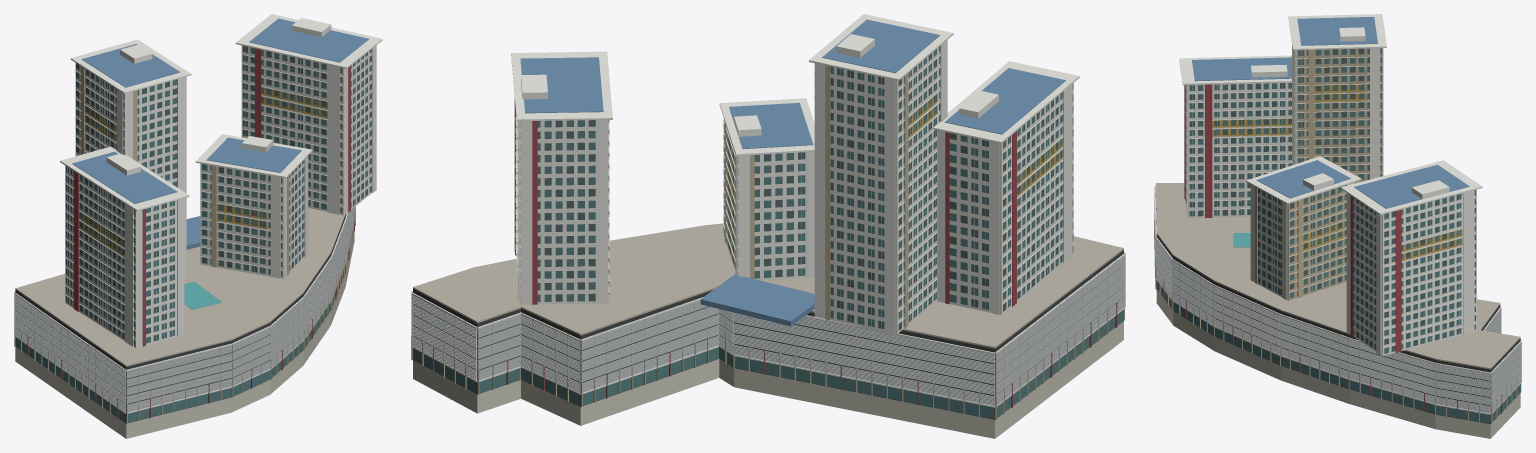
The model's file is residensi_lod0.glb.
3 views of the same model, side by side, from view 1: azimuth 30°, elevation 25°; view 2: azimuth 150°, elevation 25°; view 3: azimuth 270°, elevation 25° (orthographic). The views are drawn at different scales.
Parts seen in each view (by area): view 1: PaintWhite, Glass, Screen, Paving, RoofBlue, GlassDark, Stone, PaintWarm, Burgundy, Dark, GoldPanels, Pool; view 2: PaintWhite, Screen, Glass, Paving, RoofBlue, Stone, GlassDark, PaintWarm, Dark, Burgundy, GoldPanels; view 3: PaintWhite, Glass, Screen, Paving, PaintWarm, GlassDark, RoofBlue, Stone, Burgundy, Dark, GoldPanels.
Part boxes in pixels (x1=…): PaintWhite: x1=14, y1=14, x2=382, y2=413; Glass: x1=15, y1=47, x2=371, y2=422; Screen: x1=14, y1=206, x2=355, y2=412; Paving: x1=15, y1=207, x2=345, y2=366; RoofBlue: x1=72, y1=18, x2=368, y2=249; GlassDark: x1=66, y1=46, x2=371, y2=341; Stone: x1=15, y1=231, x2=354, y2=438; PaintWarm: x1=14, y1=66, x2=355, y2=423; Burgundy: x1=27, y1=48, x2=354, y2=418; Dark: x1=15, y1=213, x2=346, y2=423; GoldPanels: x1=79, y1=87, x2=327, y2=256; Pool: x1=184, y1=282, x2=222, y2=309; PaintWhite: x1=411, y1=14, x2=1125, y2=407; Screen: x1=411, y1=255, x2=1125, y2=405; Glass: x1=412, y1=46, x2=1124, y2=419; Paving: x1=413, y1=223, x2=1123, y2=348; RoofBlue: x1=520, y1=19, x2=1065, y2=326; Stone: x1=413, y1=321, x2=1123, y2=438; GlassDark: x1=516, y1=53, x2=1073, y2=330; PaintWarm: x1=411, y1=65, x2=1124, y2=419; Dark: x1=413, y1=250, x2=1123, y2=419; Burgundy: x1=433, y1=98, x2=1117, y2=407; GoldPanels: x1=516, y1=93, x2=1062, y2=211; PaintWhite: x1=1154, y1=14, x2=1521, y2=414; Glass: x1=1156, y1=48, x2=1520, y2=423; Screen: x1=1154, y1=189, x2=1521, y2=413; Paving: x1=1155, y1=183, x2=1520, y2=369; PaintWarm: x1=1154, y1=44, x2=1521, y2=424; GlassDark: x1=1185, y1=48, x2=1475, y2=351; RoofBlue: x1=1192, y1=17, x2=1469, y2=208; Stone: x1=1156, y1=289, x2=1520, y2=438; Burgundy: x1=1154, y1=84, x2=1502, y2=418; Dark: x1=1155, y1=195, x2=1520, y2=424; GoldPanels: x1=1204, y1=84, x2=1462, y2=260.
Size of the model in its own units: 144 by 98.07 by 119.
